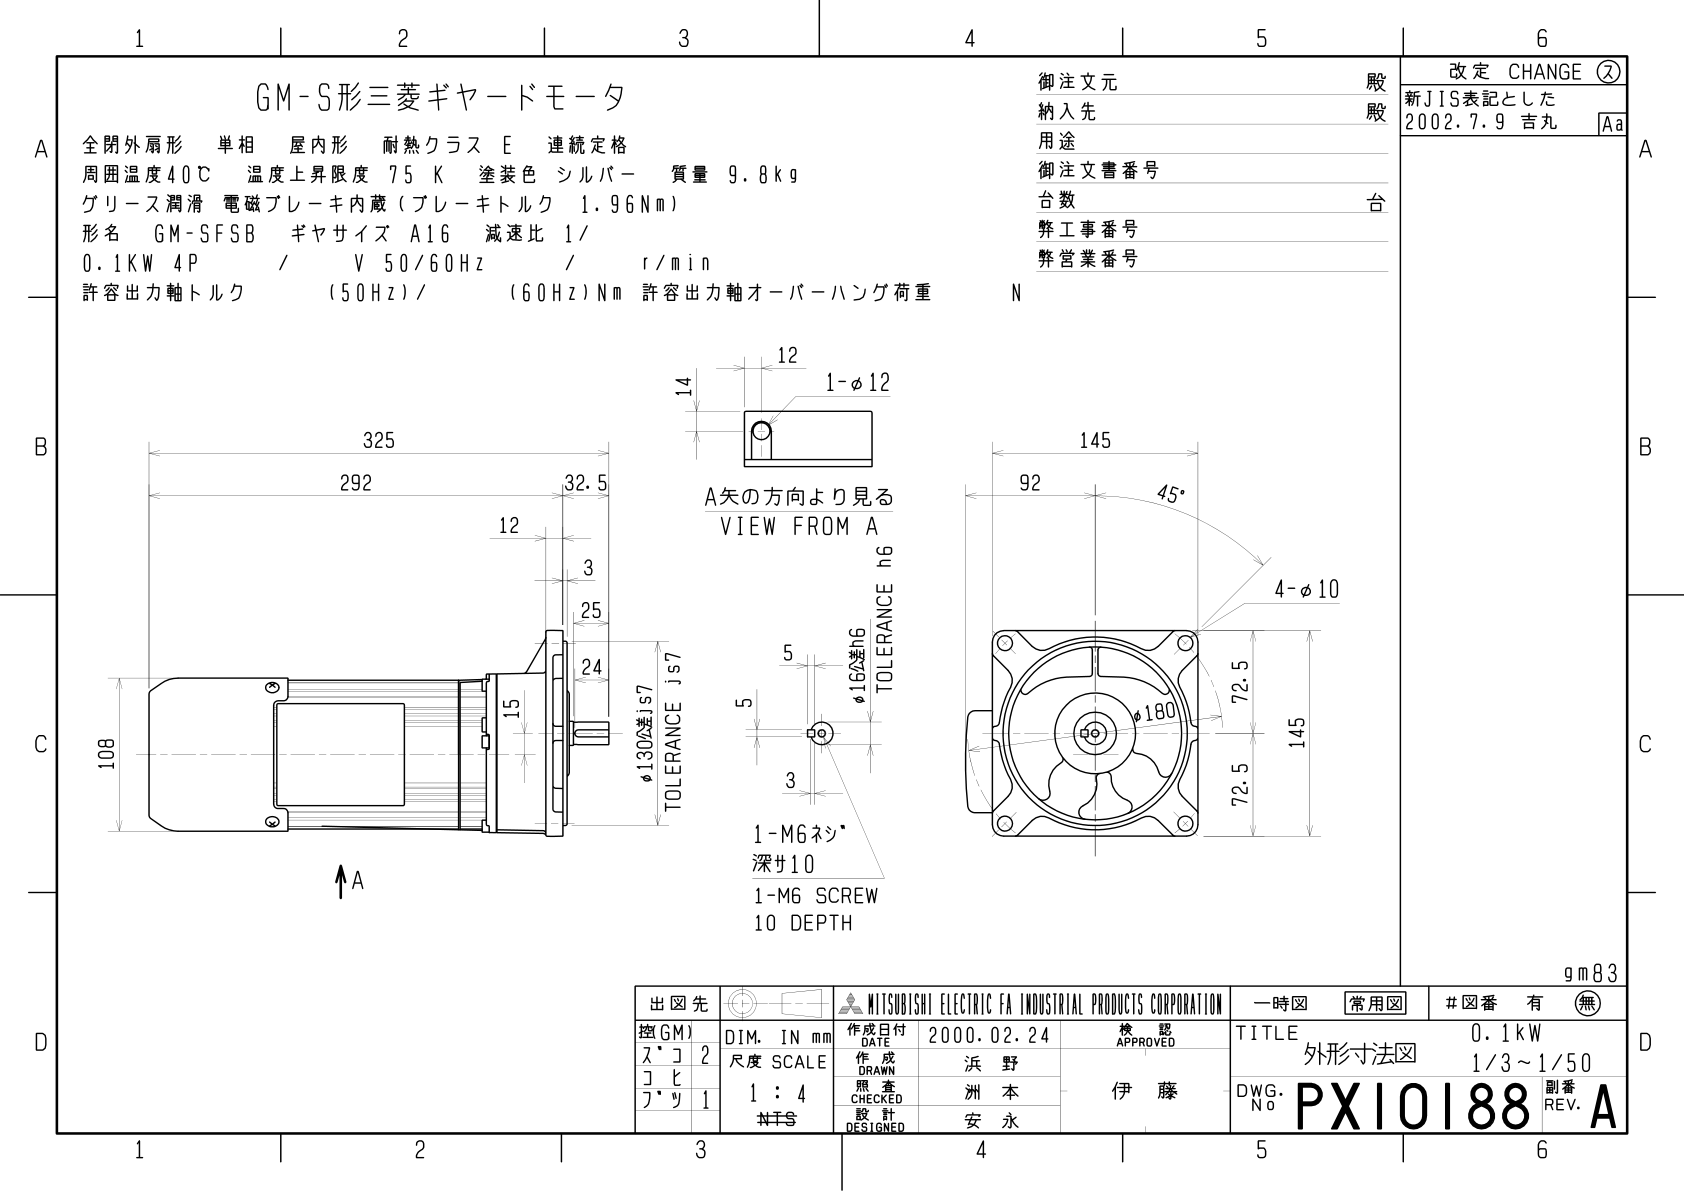GM_S_屋内＿単相_フランジ: (79, 336, 1361, 949)
